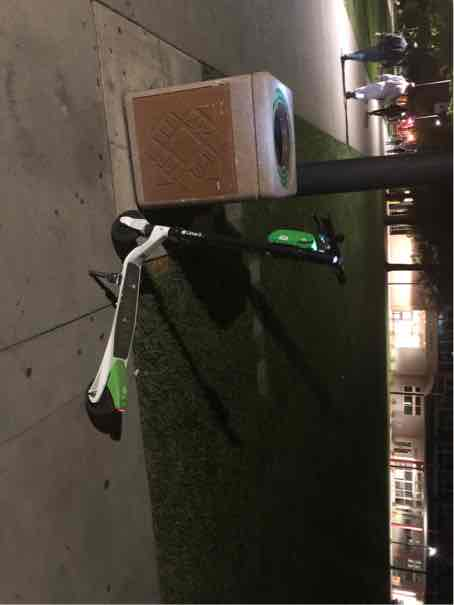scooter: (63, 177, 372, 441)
